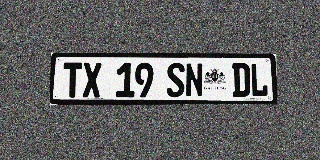1: (116, 63, 135, 97)
9: (135, 63, 153, 97)
D: (232, 63, 250, 97)
L: (250, 63, 268, 97)
N: (185, 63, 203, 97)
S: (167, 63, 185, 97)
T: (63, 62, 82, 98)
X: (82, 62, 101, 97)
